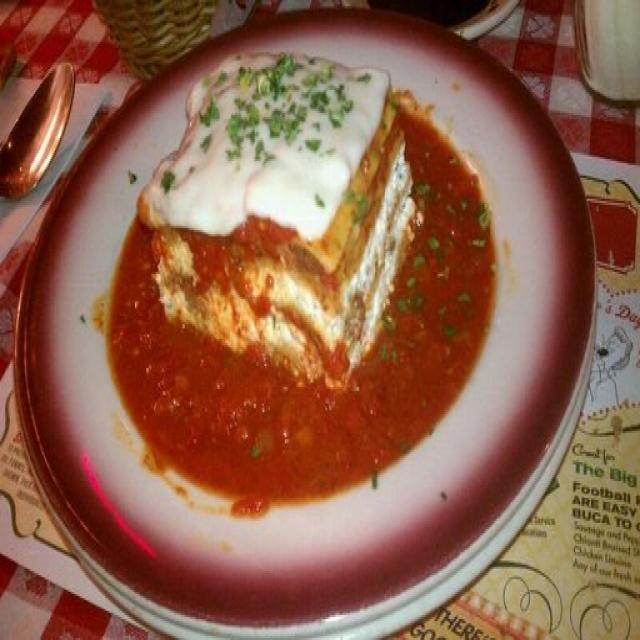Lasagna: (125, 32, 434, 425)
